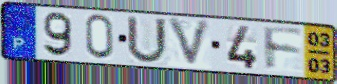0: (83, 13, 116, 62)
4: (225, 24, 259, 70)
9: (41, 11, 74, 58)
F: (261, 24, 306, 73)
U: (125, 14, 170, 66)
V: (165, 17, 214, 70)
